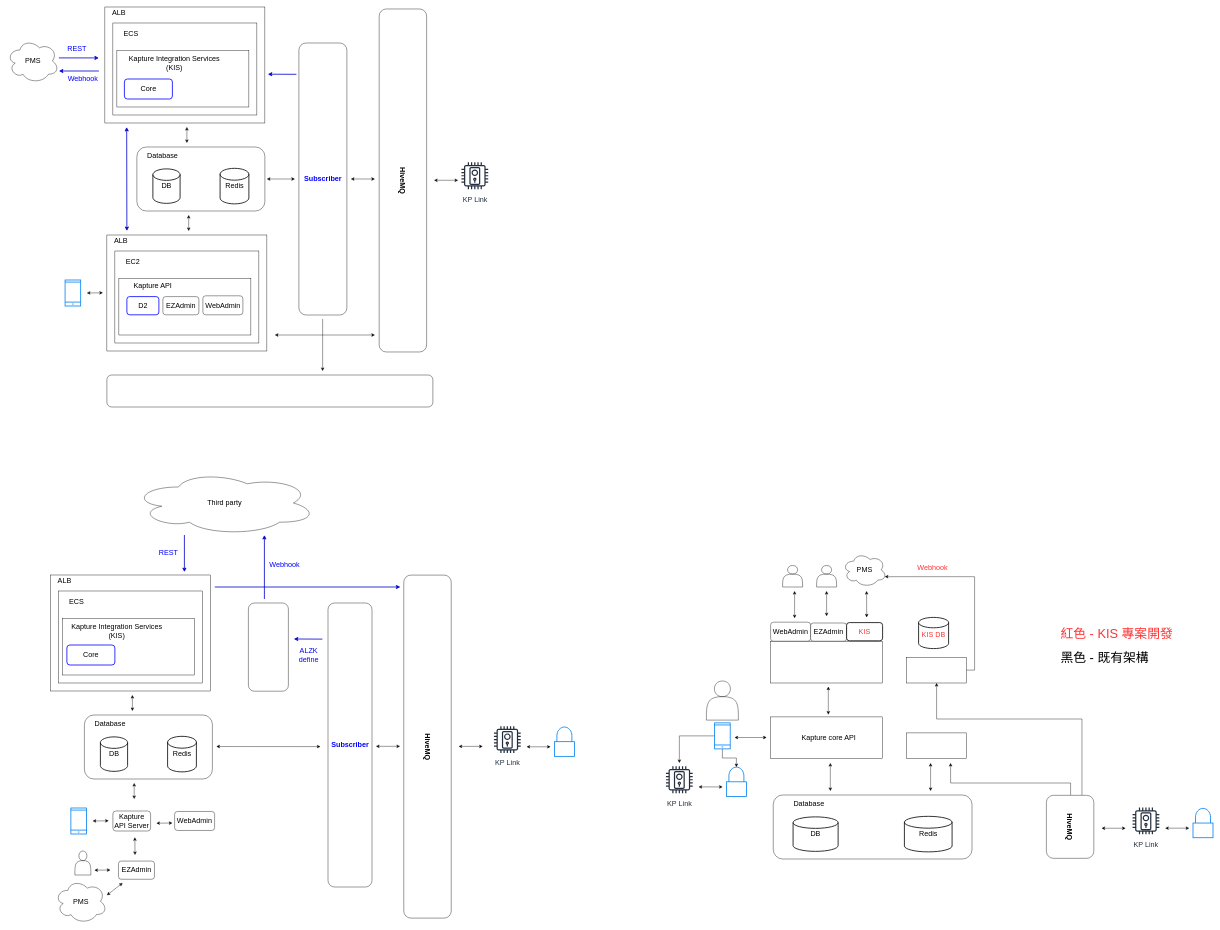
Image size: 1220x930. Some labels were removed from this diagram. The centre of each missing label's shape, as x and y in pixels:
"Adapter" goes at (268,647).
"HOM" goes at (722,700).
"Kapture Extented API" goes at (826,662).
"Kapture Subscriber" goes at (936,746).
"KIS Subscriber" goes at (936,670).
"SNS" goes at (269,391).
